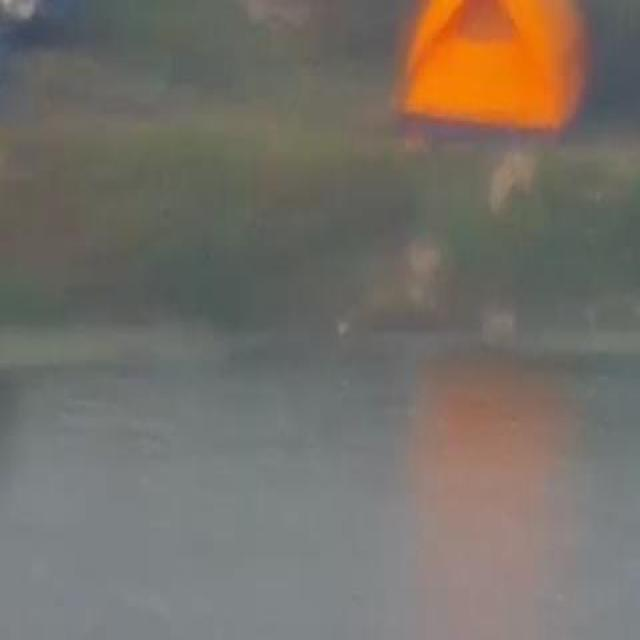other: (389, 4, 586, 143)
